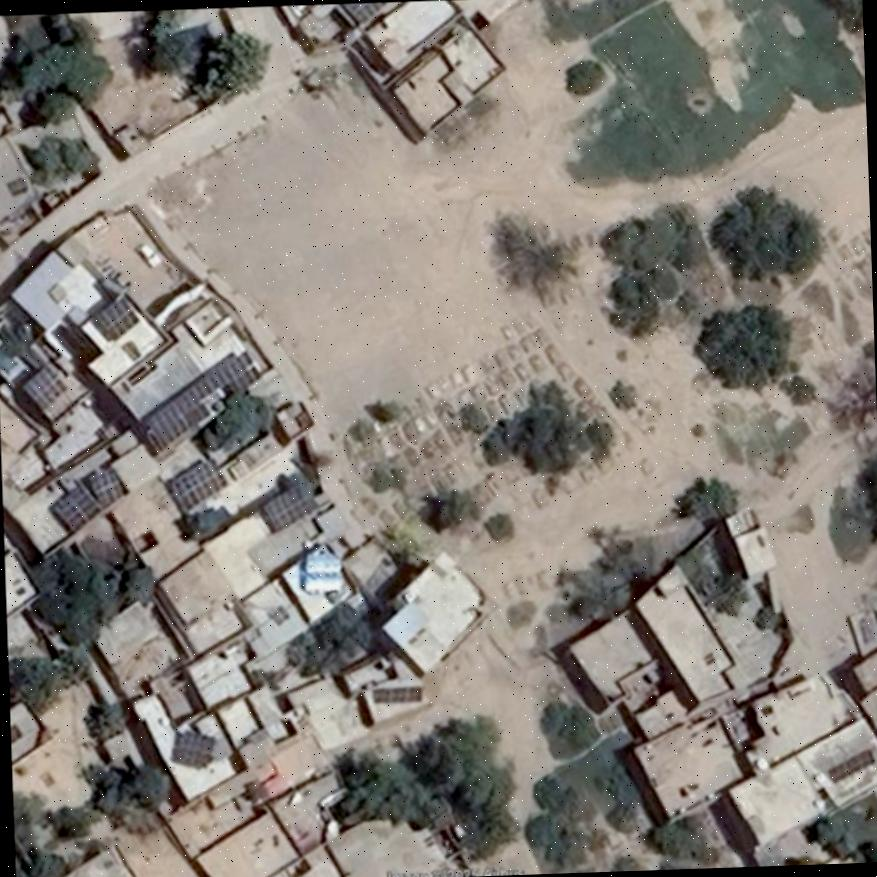Solarpanel: (141, 353, 249, 454), (172, 458, 230, 511), (47, 482, 100, 531), (262, 483, 314, 530), (21, 363, 67, 410), (93, 298, 137, 341), (171, 731, 214, 767), (304, 553, 340, 591), (88, 468, 122, 506), (342, 1, 390, 23), (373, 687, 420, 701)
